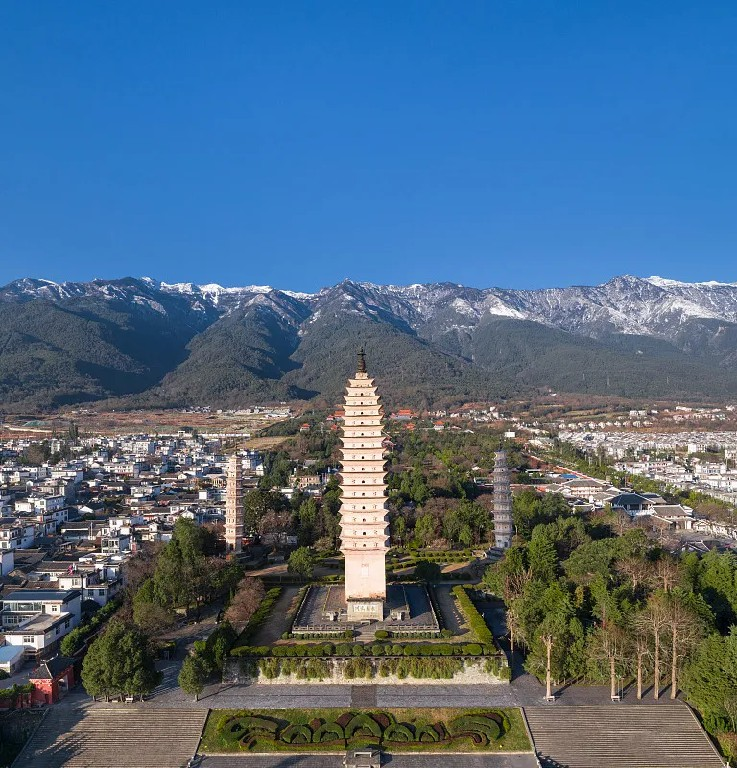ThreePagoda: (338, 347, 390, 604)
